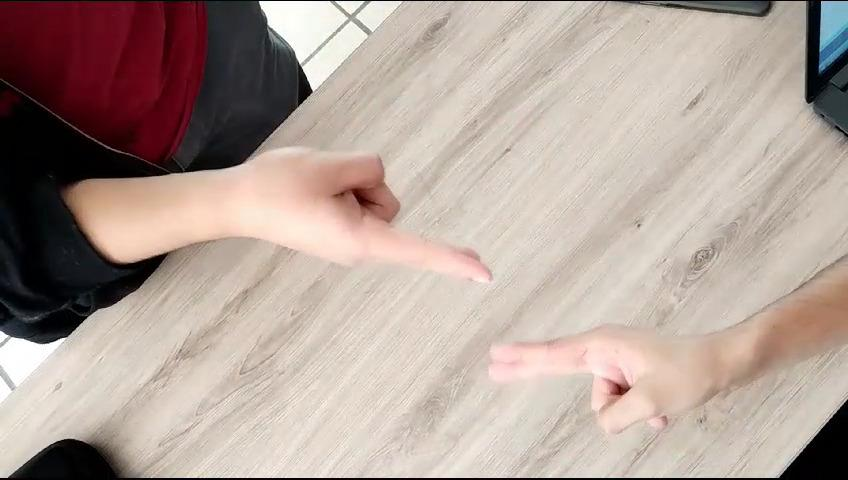Scissor: (202, 95, 504, 321), (515, 281, 724, 452)
